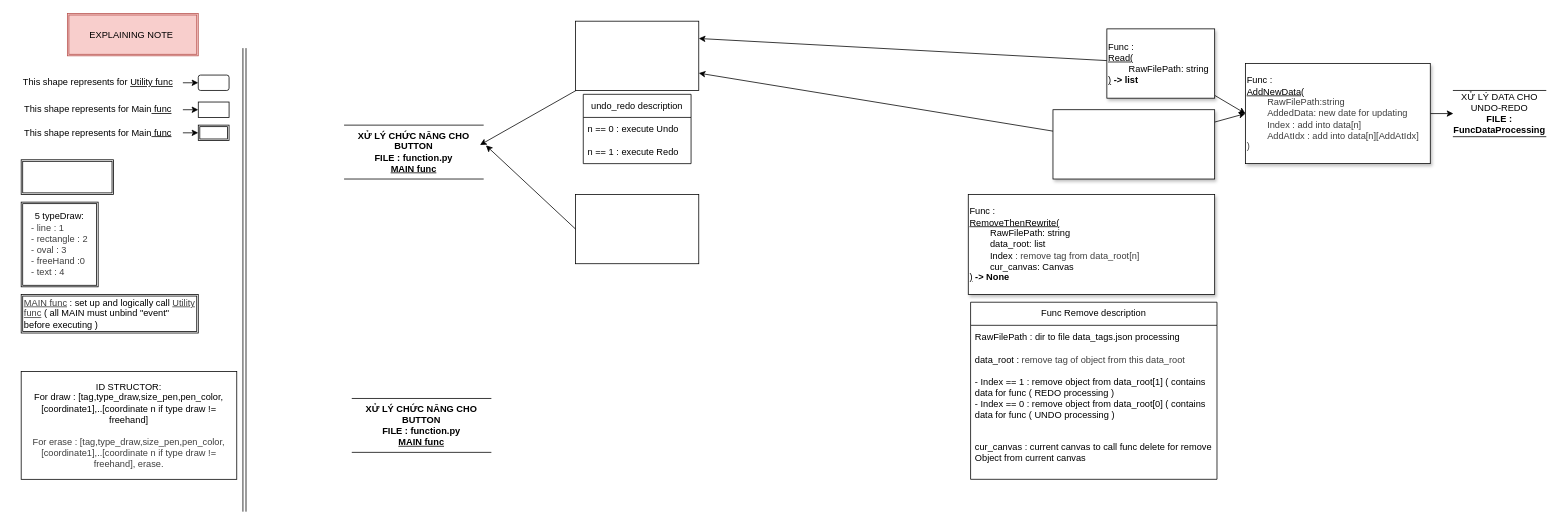
Some shapes in this 1559 by 525 pixel diagram are drawn without their labels. The centre of each missing label's shape, as x and y in pixels:
"Func : Write( RawFilePath: string data : data to wirte into file Json ) -> None" belongs at point 1134,145.
"khung A -> khung B : là A dùng cho B" belongs at point 67,176.
"MAIN Func: EraseObject( cur_canvas: canvas n: int )" belongs at point 637,229.
"MAIN Func: undo_redo( cur_canvas: canvas n: int )" belongs at point 637,55.
